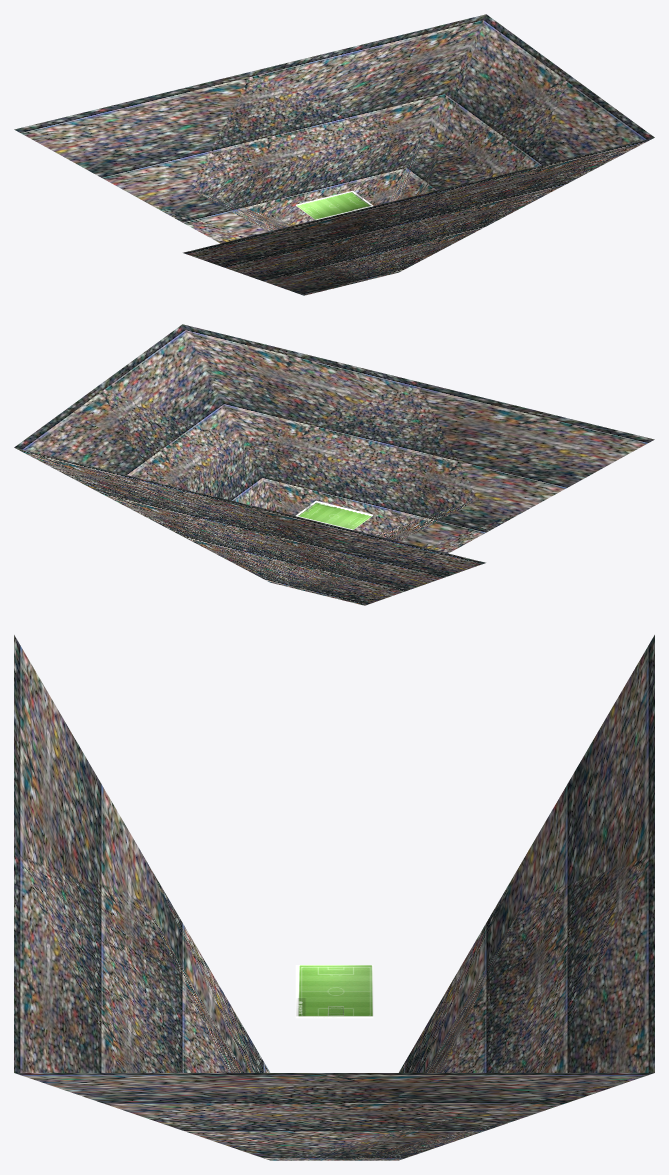
The model's file is lalaman.gltf.
The picture shows the model from 3 angles, top to bottom: view 1: azimuth 30°, elevation 25°; view 2: azimuth 150°, elevation 25°; view 3: azimuth 270°, elevation 25°; orthographic projection. The views are drawn at different scales.
Visible parts, largest first — view 1: Object_2; view 2: Object_2; view 3: Object_2.
Part boxes in pixels (x1,y1,x2,y2): Object_2: (14, 14, 654, 295); Object_2: (14, 324, 654, 605); Object_2: (14, 635, 654, 1160).
Size of the model in its own units: 396 by 111 by 245.
Materials: 5 (3 with a texture image).
